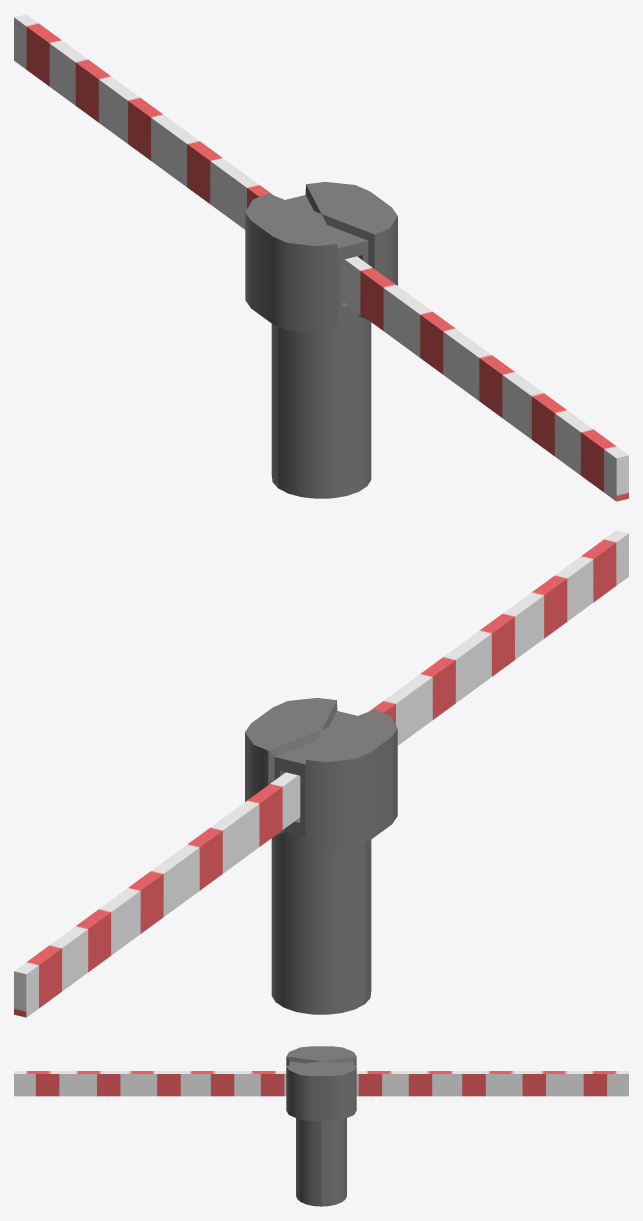
Rendered from GateArm2Sided.fbx.
3 renders of one model, top to bottom at view 1: azimuth 30°, elevation 25°; view 2: azimuth 150°, elevation 25°; view 3: azimuth 270°, elevation 25°, orthographic. The views are drawn at different scales.
Visible parts, largest first — view 1: Pole, Arm_R, Arm_L; view 2: Pole, Arm_L, Arm_R; view 3: Pole, Arm_L, Arm_R.
Boxes of the visible parts, left/top/right/bottom form: Pole: left=245, top=182, right=397, bottom=498; Arm_R: left=342, top=256, right=628, bottom=501; Arm_L: left=14, top=14, right=273, bottom=229; Pole: left=245, top=698, right=397, bottom=1014; Arm_L: left=14, top=772, right=300, bottom=1017; Arm_R: left=369, top=530, right=628, bottom=745; Pole: left=286, top=1046, right=356, bottom=1206; Arm_L: left=356, top=1071, right=628, bottom=1096; Arm_R: left=14, top=1071, right=286, bottom=1096.
Bounding box in the file's own units: 2.75 × 5.82 × 24.09.
Materials: 2 (1 with a texture image).
